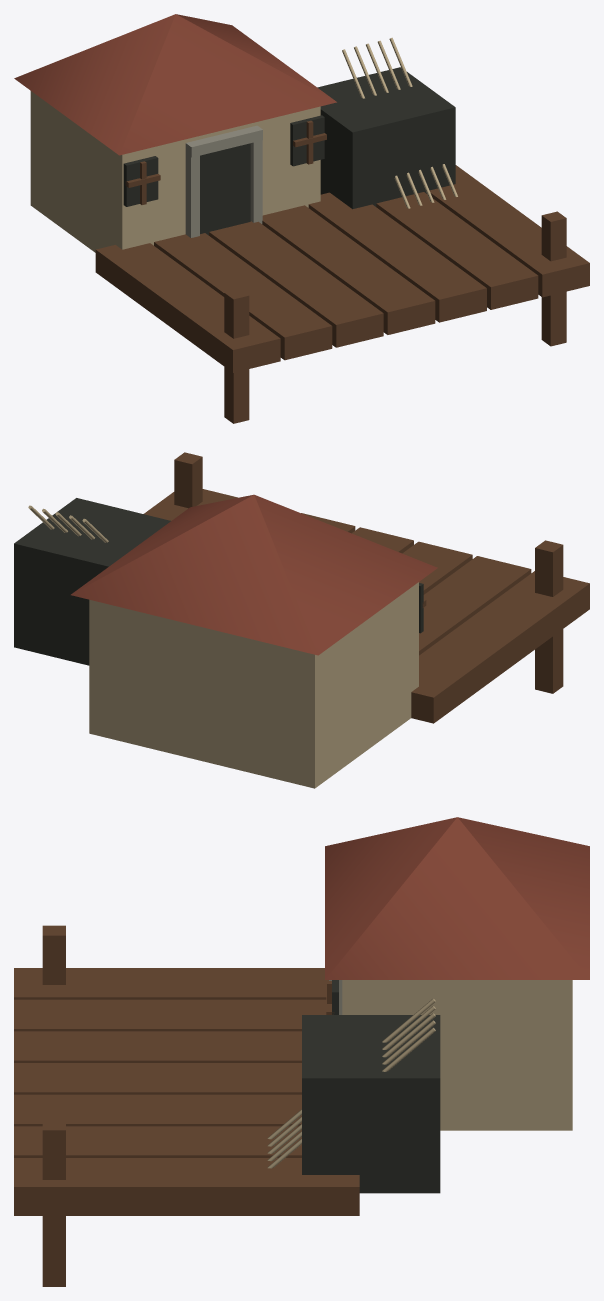
Rendered from custom-imp-fishery.glb.
3 renders of one model, top to bottom at view 1: azimuth 30°, elevation 25°; view 2: azimuth 150°, elevation 25°; view 3: azimuth 270°, elevation 25°, orthographic. The views are drawn at different scales.
Parts seen in each view (by area): view 1: custom-imp-fishery; view 2: custom-imp-fishery; view 3: custom-imp-fishery.
Part boxes in pixels (x1=…): custom-imp-fishery: x1=14, y1=14, x2=589, y2=423; custom-imp-fishery: x1=14, y1=452, x2=589, y2=788; custom-imp-fishery: x1=14, y1=817, x2=589, y2=1286.
Size of the model in its own units: 0.9 by 0.634 by 1.
